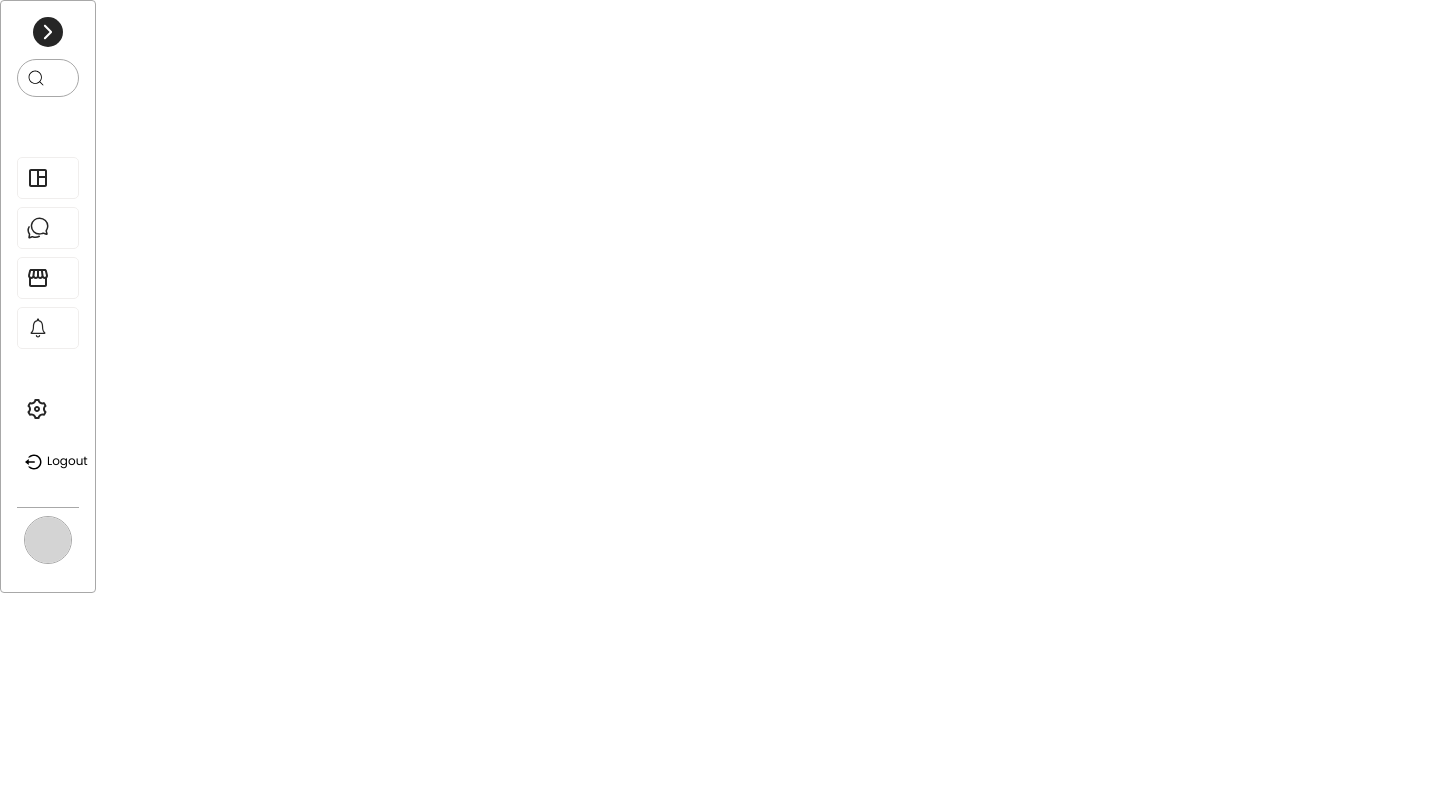
Scenario: DashBoardSideBar › toggles notification icon when selected
The width and height of the screenshot is (1440, 810).
Expected: the 6th icon is shown, top-left (26, 316), bottom-right (50, 340)
Click the button with test id "notification-button" at (48, 328), box top-left (17, 307), bottom-right (79, 349)
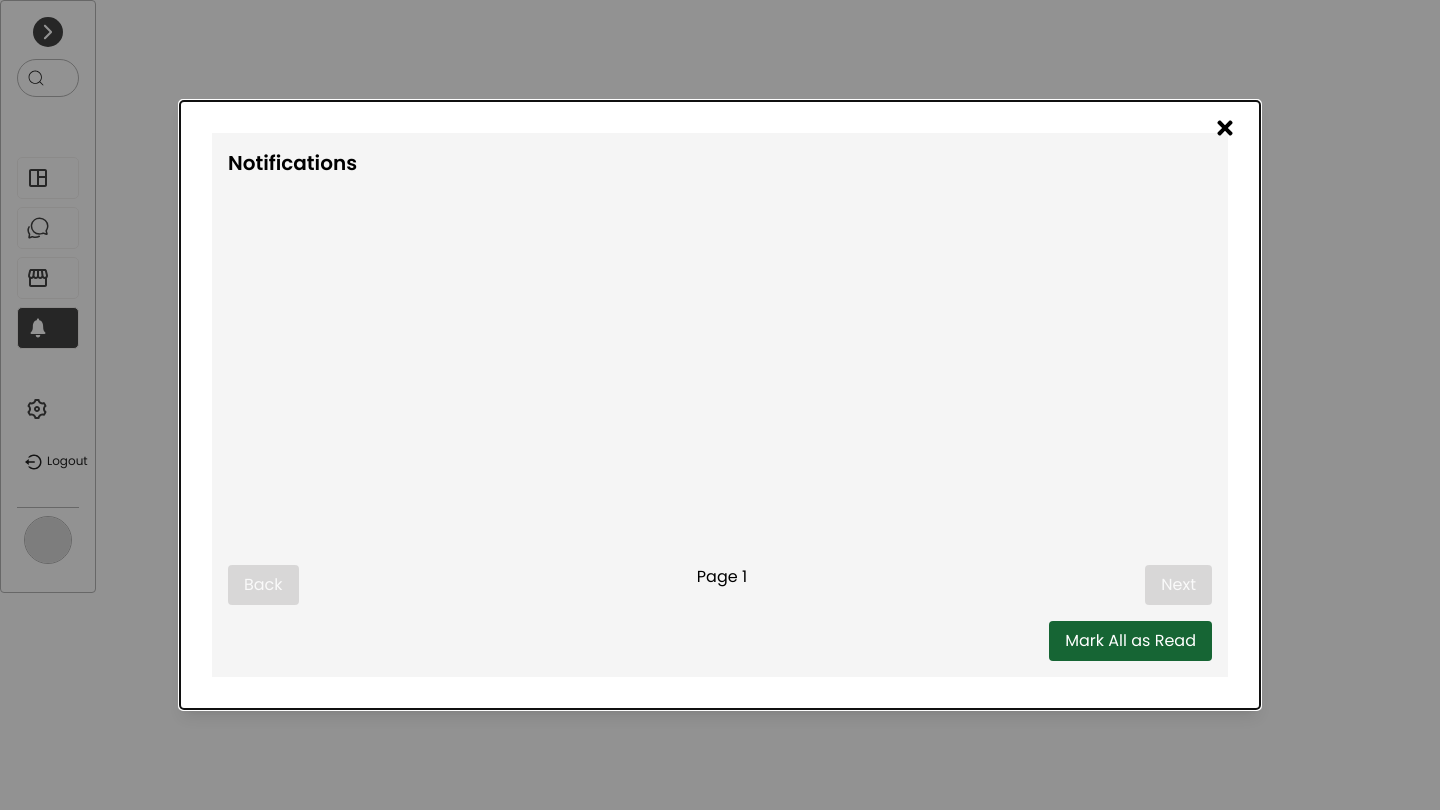
Now the 2nd icon is shown, box top-left (26, 316), bottom-right (50, 340)
